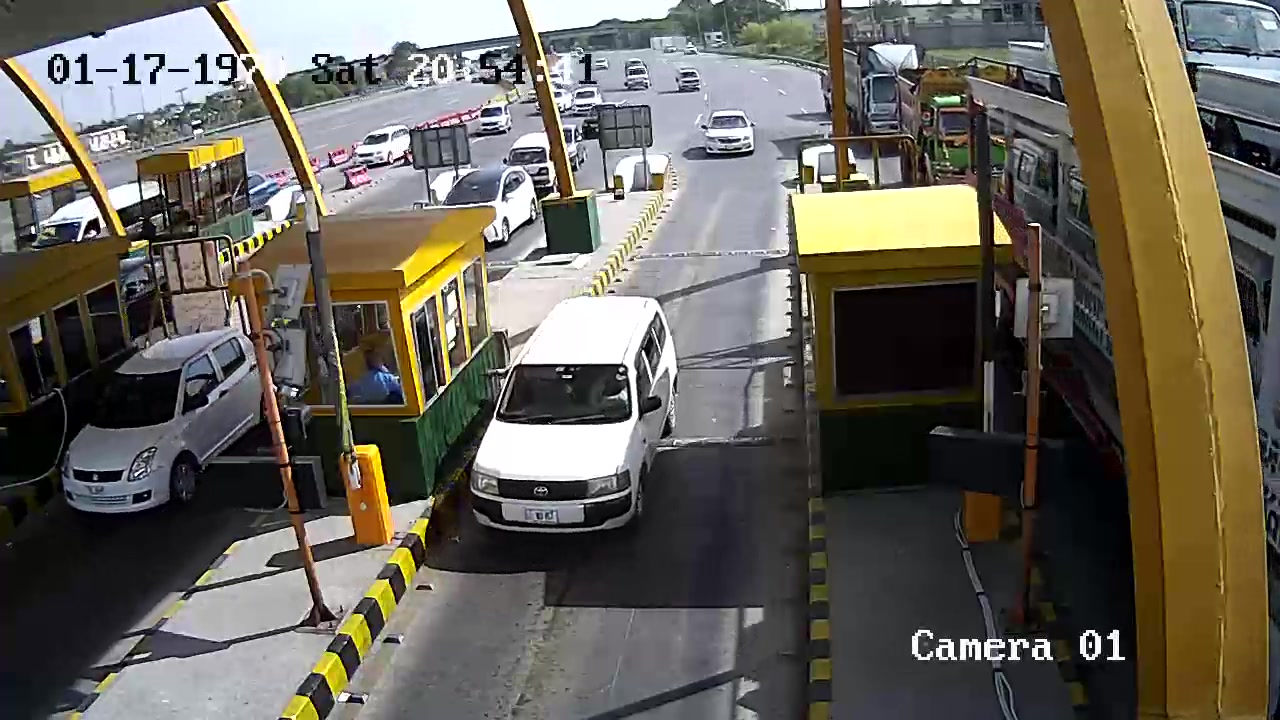F1: (471, 284, 686, 549)
